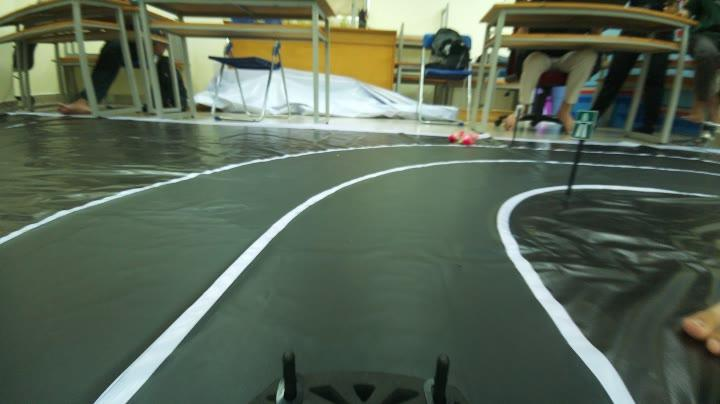highway_entry: (569, 106, 594, 142)
